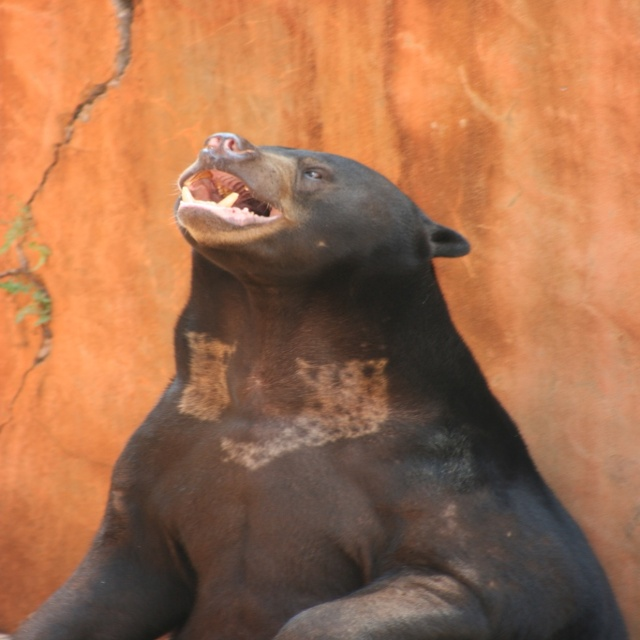Sea lion: (7, 133, 638, 640)
